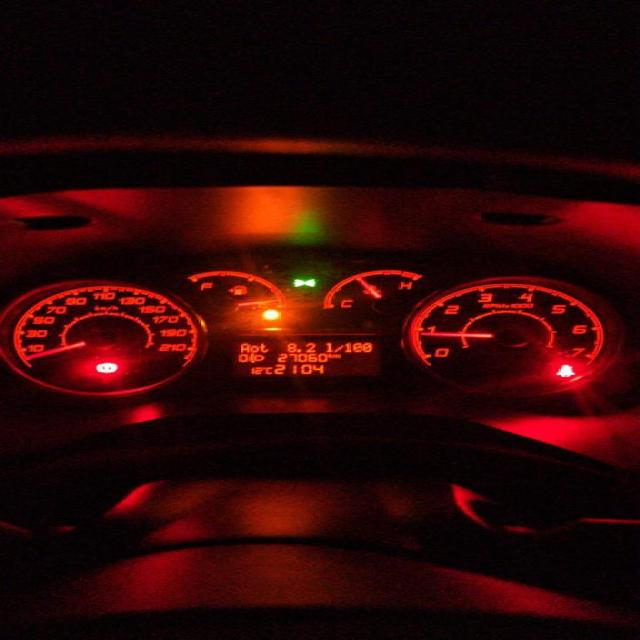odometer: (220, 334, 386, 378)
